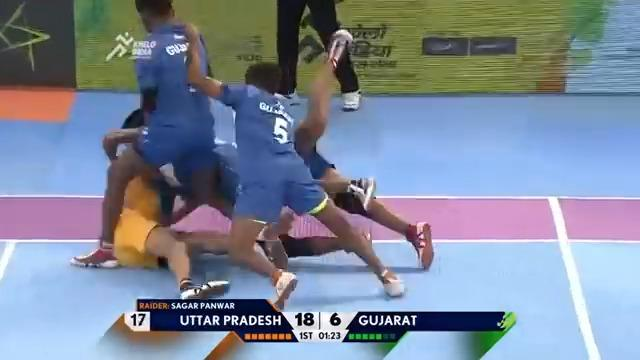Player: (181, 26, 406, 309), (271, 55, 434, 272)
Raider: (70, 107, 232, 300)
referee: (274, 0, 362, 111)
